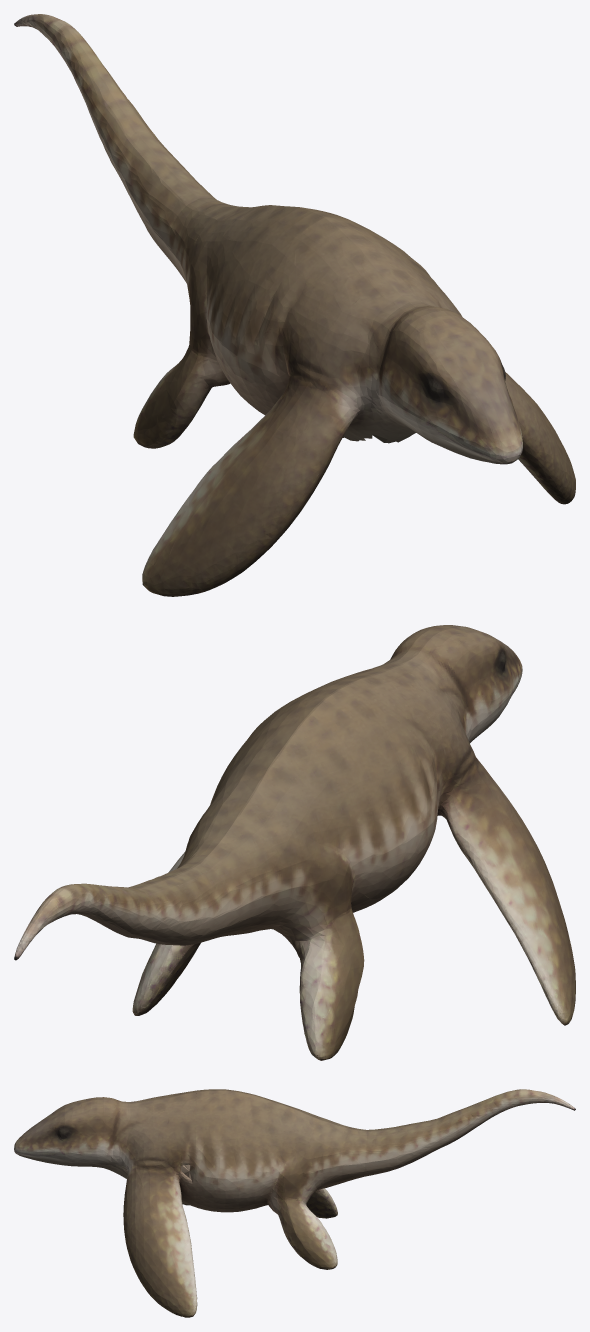
The picture shows the model from 3 angles, top to bottom: view 1: azimuth 30°, elevation 25°; view 2: azimuth 150°, elevation 25°; view 3: azimuth 270°, elevation 25°; orthographic projection. The views are drawn at different scales.
Parts seen in each view (by area): view 1: world; view 2: world; view 3: world.
Part boxes in pixels (x1,y1,x2,y2): world: (14,14,575,596); world: (14,625,575,1060); world: (14,1089,575,1317).
Size of the model in its own units: 0.4903 by 0.3329 by 0.9932.
1 material, 1 textured.
